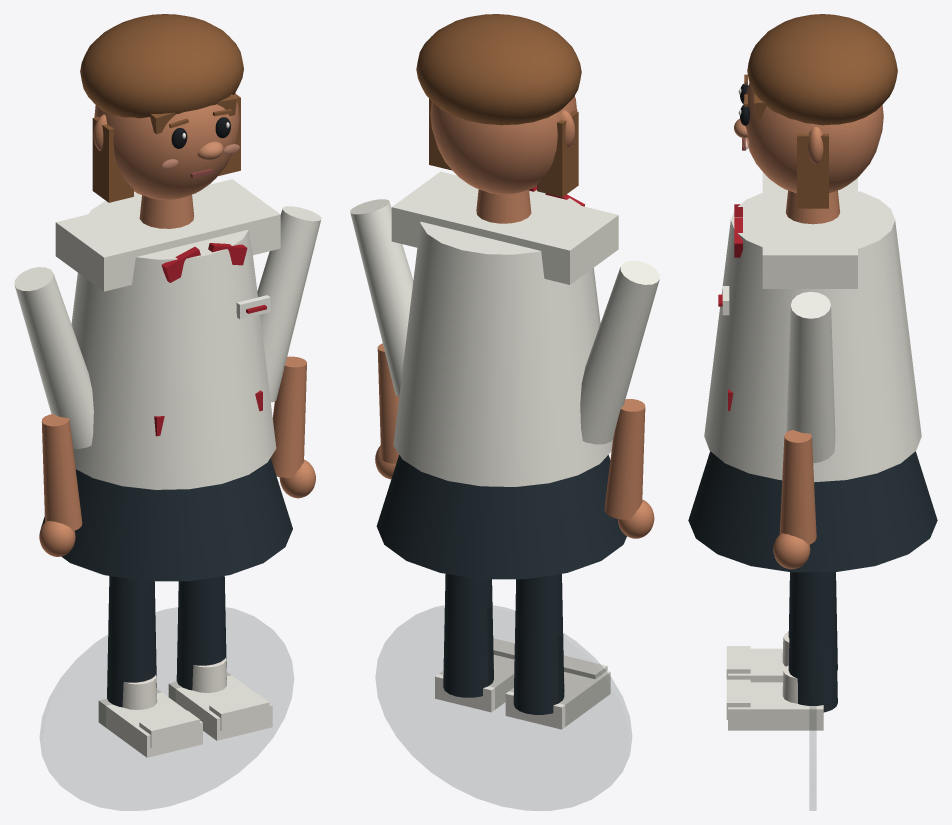
File: staff_07_sgk.glb
3 renders of one model, left to right at view 1: azimuth 30°, elevation 25°; view 2: azimuth 150°, elevation 25°; view 3: azimuth 270°, elevation 25°, orthographic. The views are drawn at different scales.
Visible parts, largest first — view 1: torso, contact_shadow, skirt, hair_cap, shoulder_line, head, upper_arm_-0.235, upper_arm_0.235, leg_-0.075, leg_0.075, forearm_-0.235, forearm_0.235 (+11 smaller); view 2: torso, contact_shadow, skirt, hair_cap, shoulder_line, upper_arm_-0.235, head, leg_-0.075, upper_arm_0.235, leg_0.075, forearm_-0.235, shoe_-0.075 (+6 smaller); view 3: torso, skirt, hair_cap, shoulder_line, upper_arm_0.235, head, leg_0.075, forearm_0.235, shoe_0.075, side_hair_0.115, shoe_-0.075, neck (+5 smaller).
Boxes of the visible parts, bbox=[...] form: torso: bbox=[71, 192, 276, 489]; contact_shadow: bbox=[40, 607, 293, 810]; skirt: bbox=[41, 458, 292, 581]; hair_cap: bbox=[80, 14, 243, 118]; shoulder_line: bbox=[55, 179, 280, 291]; head: bbox=[94, 94, 239, 199]; upper_arm_-0.235: bbox=[14, 267, 93, 449]; upper_arm_0.235: bbox=[257, 206, 321, 402]; leg_-0.075: bbox=[107, 576, 156, 707]; leg_0.075: bbox=[176, 576, 226, 690]; forearm_-0.235: bbox=[41, 414, 82, 531]; forearm_0.235: bbox=[270, 356, 306, 477]; torso: bbox=[393, 190, 612, 486]; contact_shadow: bbox=[376, 605, 631, 810]; skirt: bbox=[376, 455, 626, 579]; hair_cap: bbox=[416, 14, 581, 125]; shoulder_line: bbox=[391, 171, 618, 284]; upper_arm_-0.235: bbox=[580, 260, 659, 444]; head: bbox=[430, 96, 576, 194]; leg_-0.075: bbox=[513, 574, 564, 714]; upper_arm_0.235: bbox=[350, 199, 413, 396]; leg_0.075: bbox=[443, 574, 493, 697]; forearm_-0.235: bbox=[604, 399, 645, 519]; shoe_-0.075: bbox=[505, 671, 610, 729]; torso: bbox=[704, 191, 921, 482]; skirt: bbox=[688, 451, 937, 572]; hair_cap: bbox=[747, 14, 897, 125]; shoulder_line: bbox=[762, 172, 857, 288]; upper_arm_0.235: bbox=[786, 291, 835, 462]; head: bbox=[743, 83, 883, 193]; leg_0.075: bbox=[788, 572, 837, 712]; forearm_0.235: bbox=[779, 430, 816, 544]; shoe_0.075: bbox=[728, 682, 823, 730]; side_hair_0.115: bbox=[797, 133, 828, 208]; shoe_-0.075: bbox=[728, 648, 785, 682]; neck: bbox=[785, 190, 840, 224].
Bounding box in the file's own units: 0.6295 × 1.55 × 0.4559.
